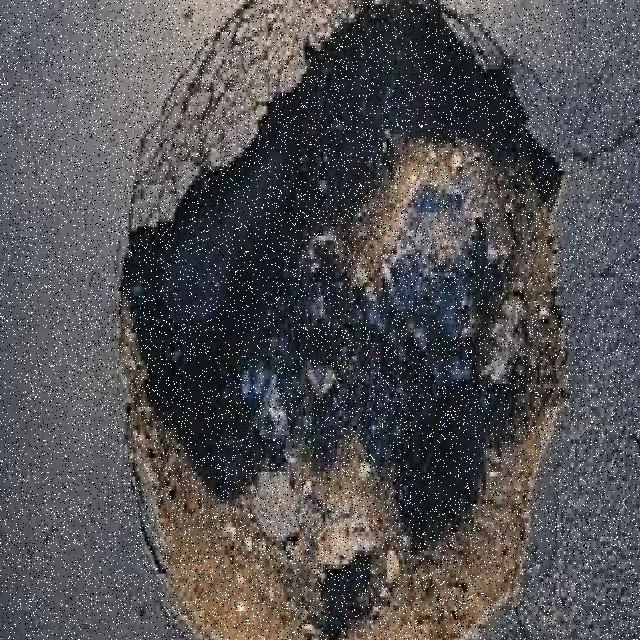pothole: (113, 0, 570, 640)
